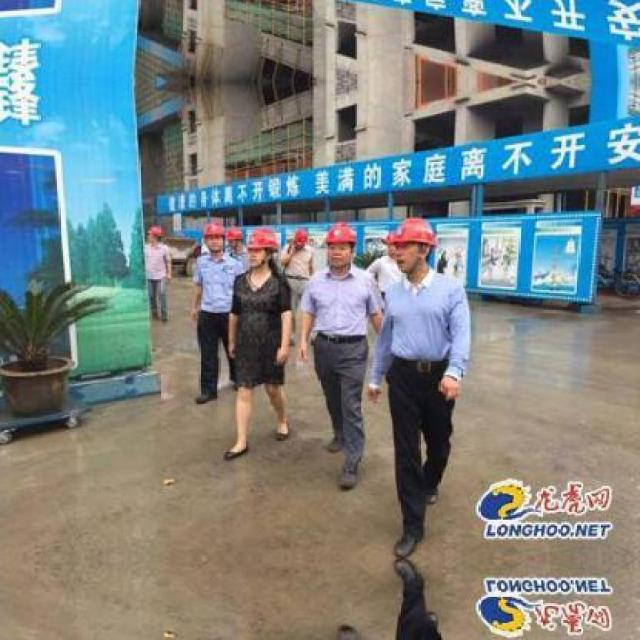helmet: (389, 217, 436, 272), (322, 220, 358, 266), (247, 225, 279, 268), (198, 222, 230, 255), (224, 220, 241, 253), (141, 220, 161, 244)
